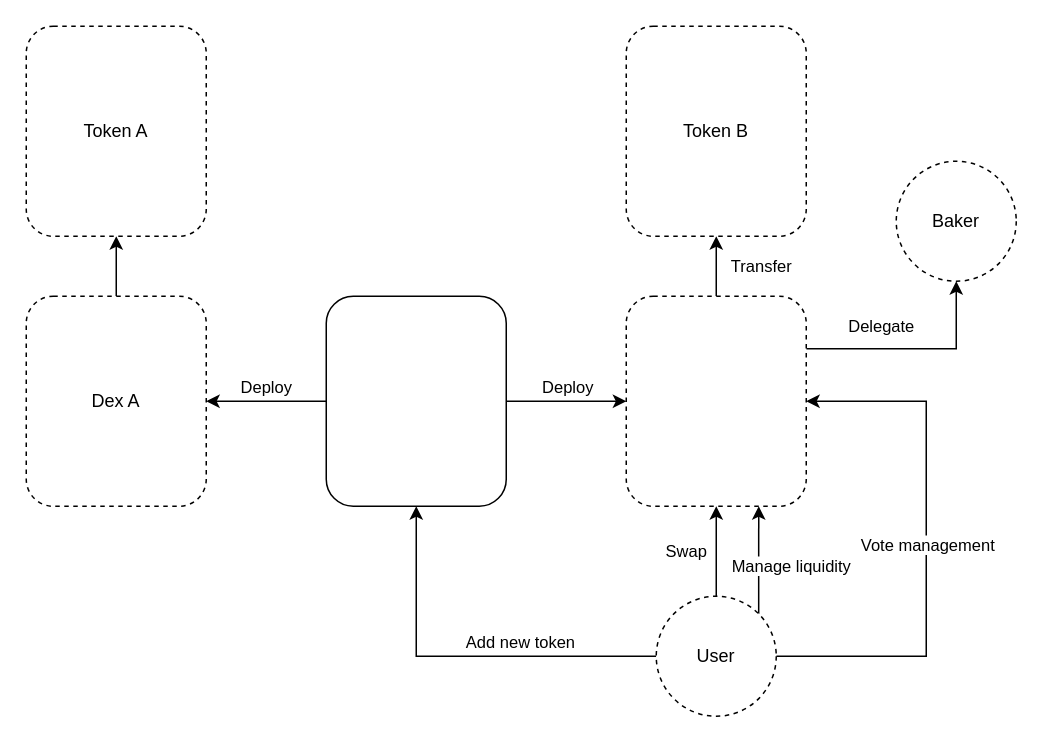
This 1043x743 diagram has some shape labels left out. The shapes that lost their labels are listed below. From the top down, each one's box as (x1, y1, x2, y2) in pixels, then its label:
(325, 295, 506, 506): Factory
(625, 295, 806, 506): Dex B
